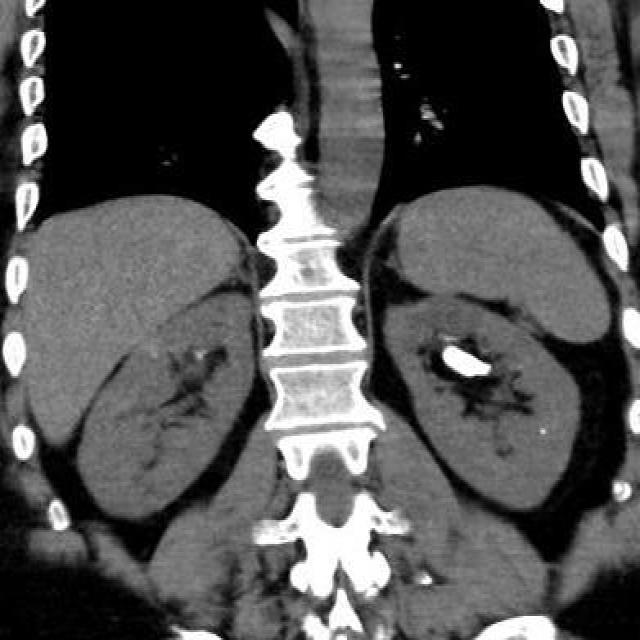Tas_Var: (439, 341, 492, 379), (537, 427, 548, 437)
